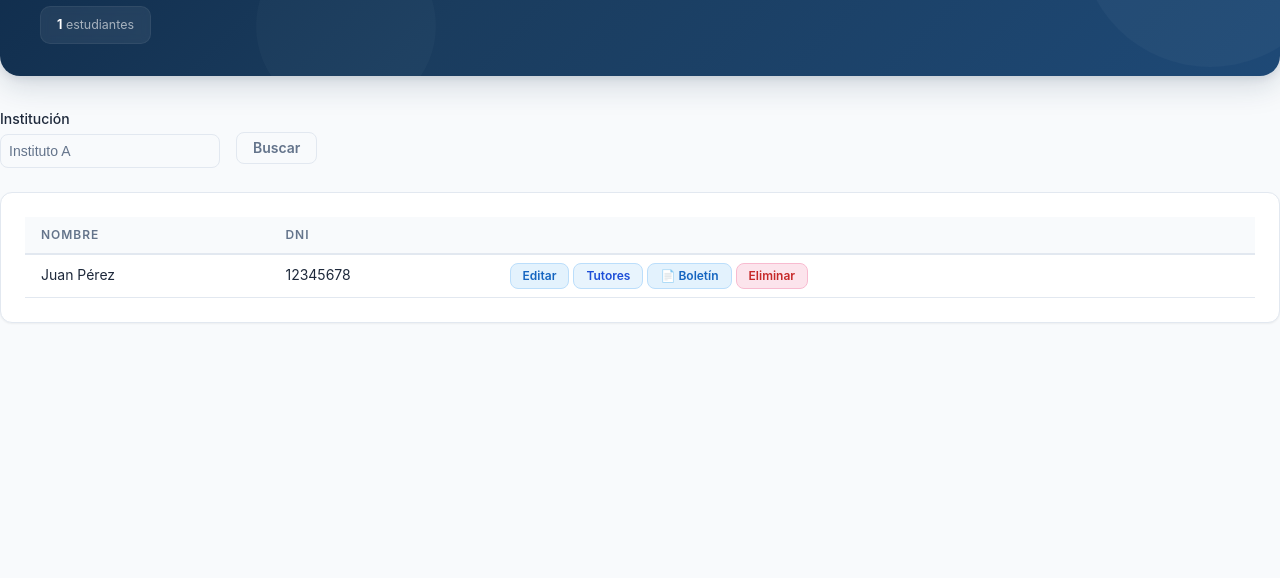
StudentsPage — code-review round-3 bug fixes › (Round3-Fix4) editing guardian into a duplicate name shows friendly message not raw TUTOR_DUPLICATE_NAME code
Click the button "Tutores" at (608, 276), box [573,263,643,289]
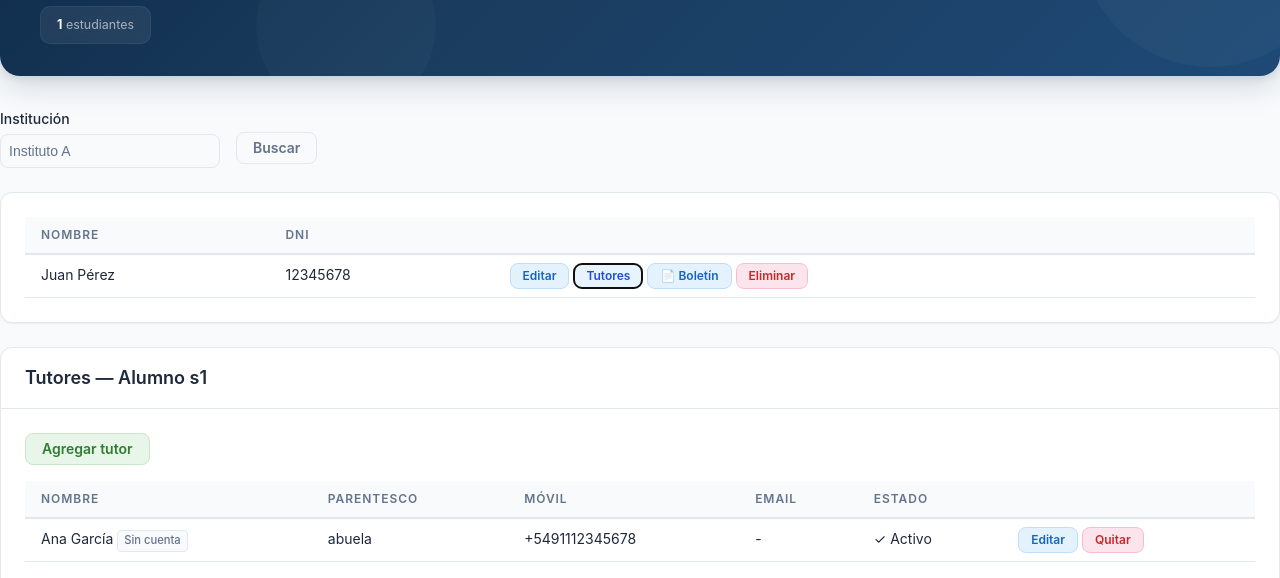
Note: Click the last "Editar" button — the one in the guardian table
Click the button "Editar" in the row of "Ana García" at (1048, 540), box [1018,527,1078,553]
(page scrolled)
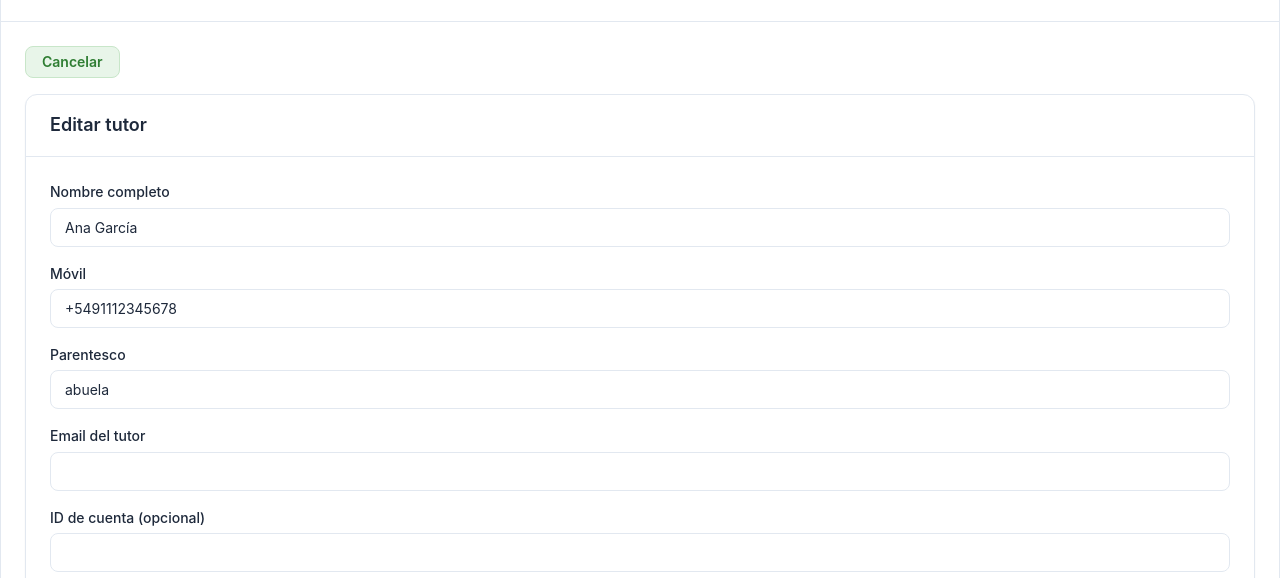
Note: fullName input is pre-filled with 'Ana García'
Replace the text in the field showing "Ana García" with "María García" at (640, 227), box [50,208,1230,247]
(page scrolled)
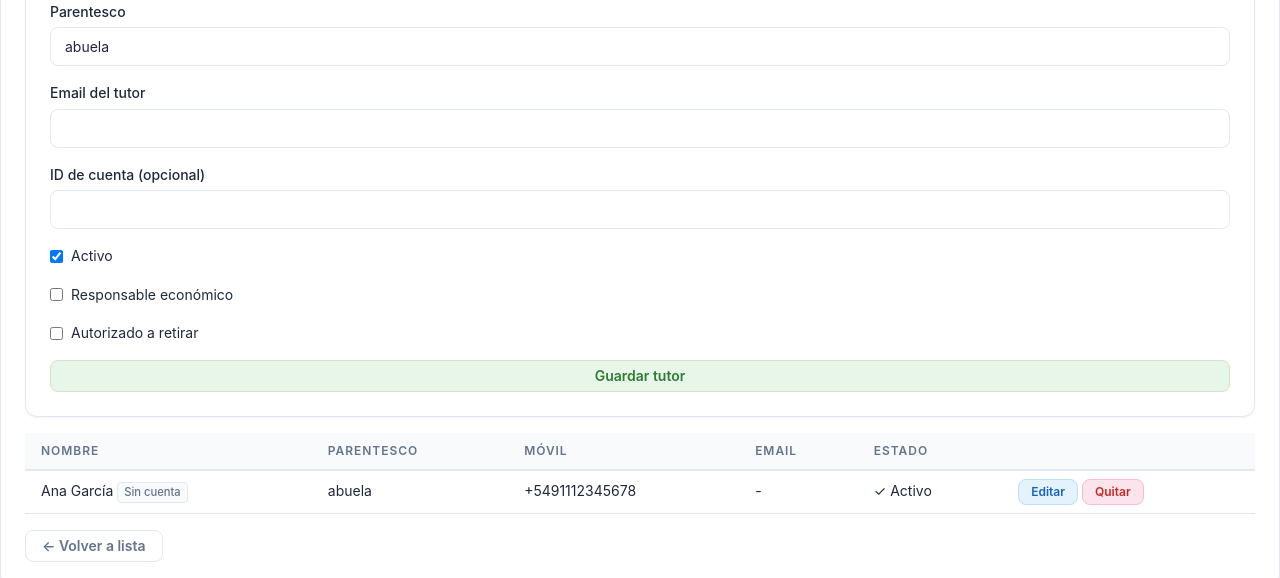
Click the button "Guardar tutor" at (640, 376), box [50,360,1230,392]
(page scrolled)
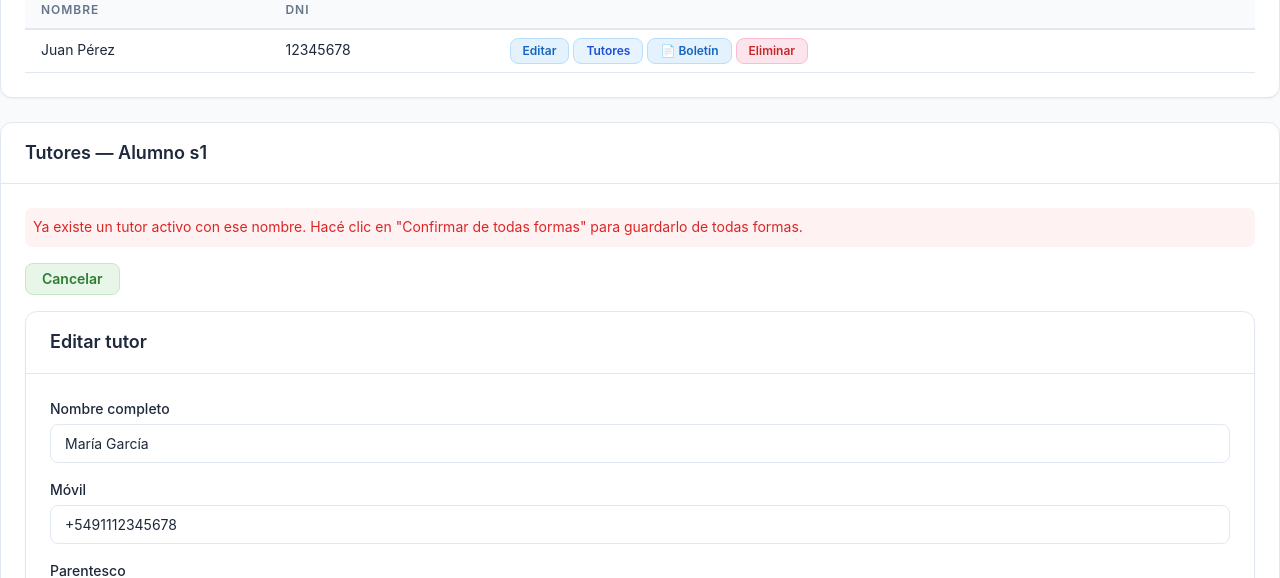
Check: the text "Ya existe un tutor activo con ese nombre" is shown, box [33,218,803,235]
